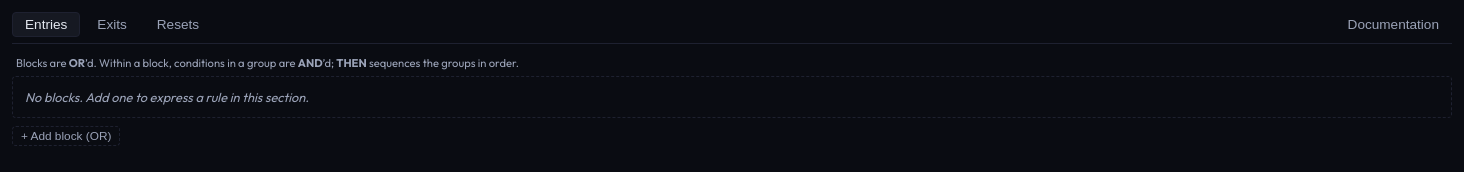
Test: post-fix interface: no section prop — doc tab works › clicking Documentation tab renders DocView (Edit button visible)
This screenshot has width=1464, height=172.
Click the tab with test id "section-tab-doc".
click(1393, 24)  # box [1335,12,1452,37]
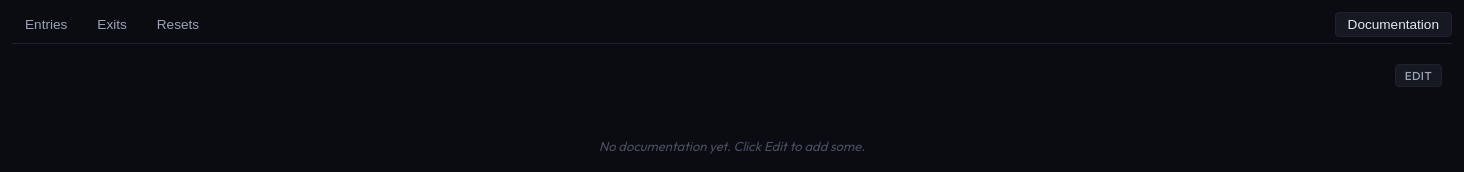
Check: the button with aria-label "edit documentation" is shown, box [1395,64,1442,87]
